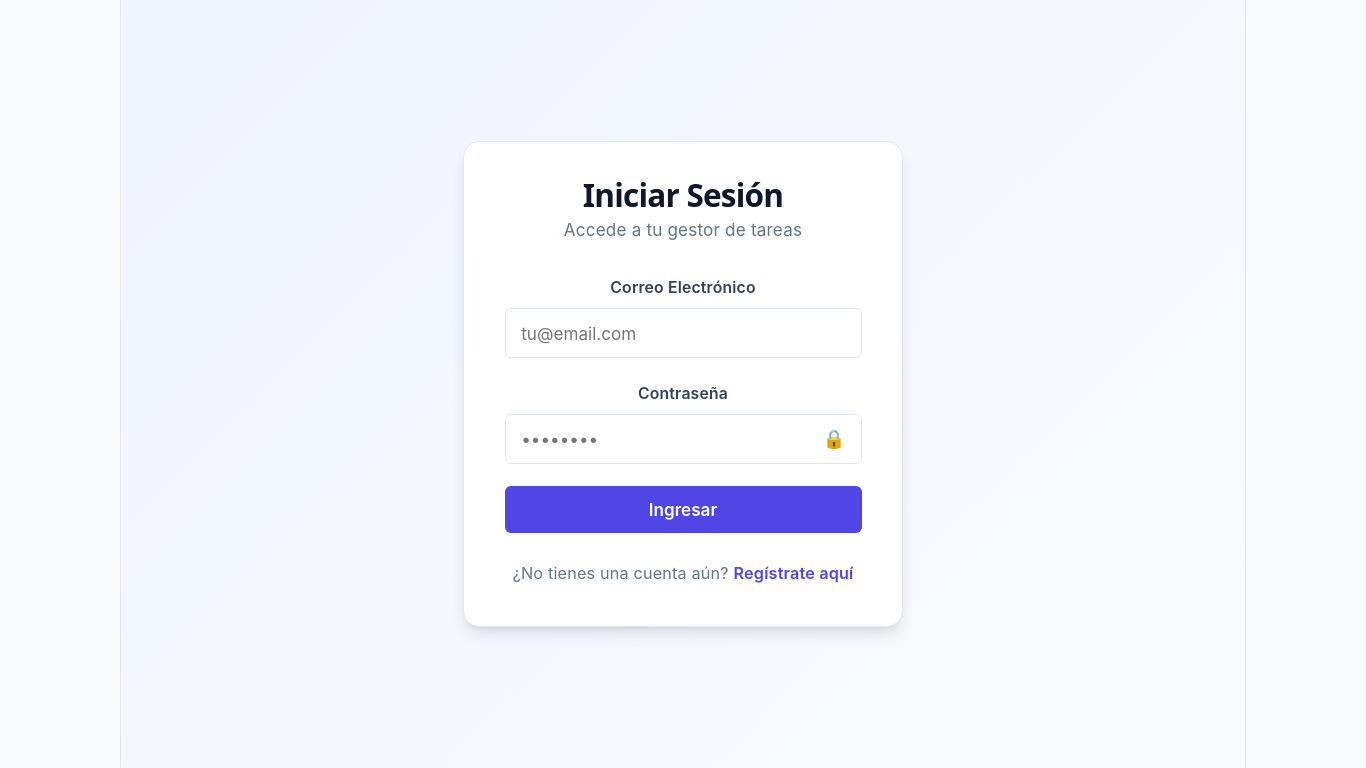
Scenario: Login Page › muestra un error si se intenta enviar el formulario con campos vacíos
The image size is (1366, 768).
What coordinates should you click on to do the following:
click the button "Ingresar"
I would click on:
 (683, 510)
Its box is left=504, top=486, right=862, bottom=533.
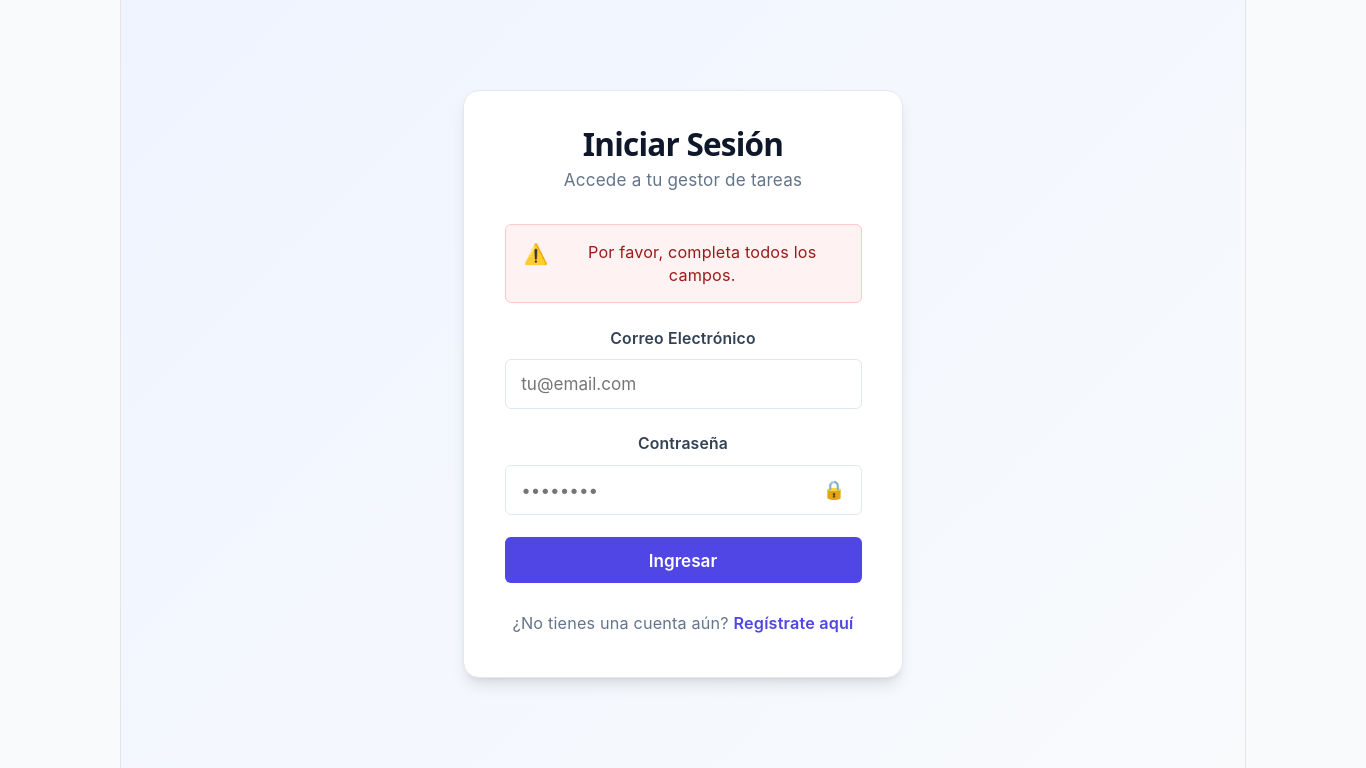
Result: the message shows "Por favor, completa todos los campos." at left=588, top=242, right=816, bottom=285
